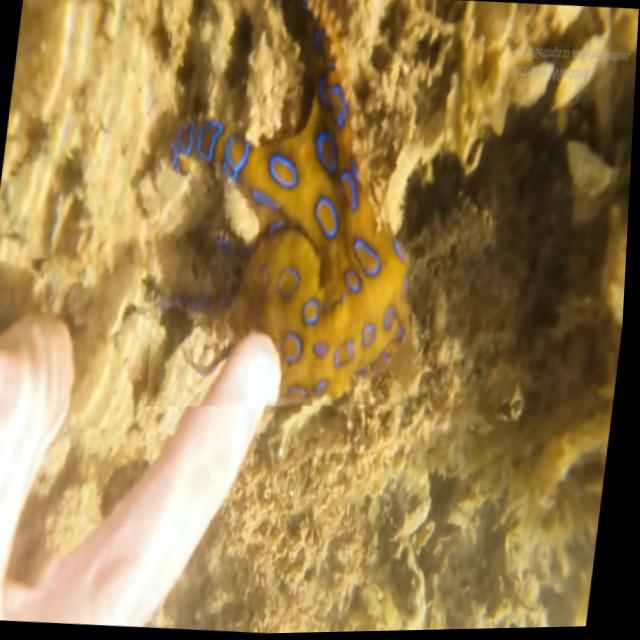blue_ringed_octopus: (134, 0, 449, 421)
